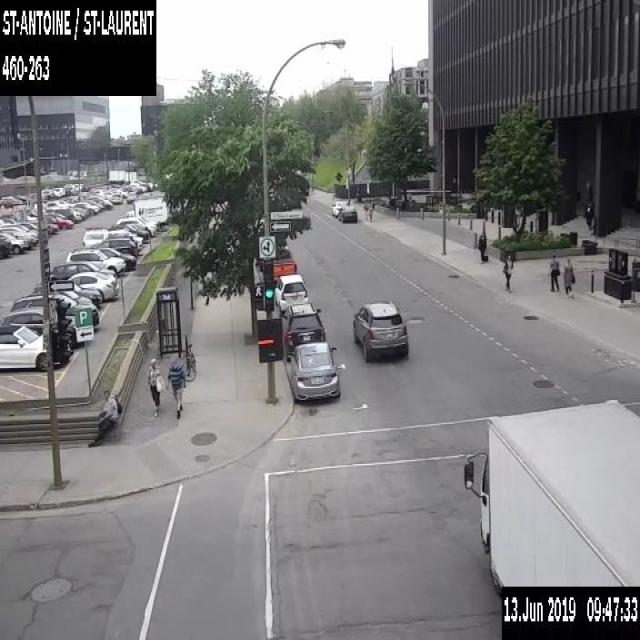pedestrian: (86, 389, 122, 448), (164, 356, 187, 417), (146, 357, 162, 416), (562, 257, 575, 298), (548, 252, 560, 290), (502, 253, 512, 291), (477, 230, 488, 261), (368, 205, 372, 221)
vehicle: (462, 398, 639, 584), (353, 300, 408, 362), (1, 307, 81, 347), (10, 292, 99, 326), (290, 340, 340, 399), (282, 302, 325, 361), (0, 324, 47, 370), (66, 248, 126, 276), (67, 270, 119, 301), (82, 227, 143, 252), (124, 192, 168, 224), (50, 260, 116, 281), (274, 273, 308, 312), (87, 235, 137, 257), (0, 224, 38, 248), (98, 246, 136, 270), (116, 215, 160, 235), (273, 244, 296, 280), (109, 223, 149, 241), (73, 282, 102, 304), (0, 231, 28, 253), (68, 201, 98, 215), (337, 203, 357, 222), (87, 195, 112, 208), (331, 199, 348, 216), (60, 209, 80, 223), (42, 216, 58, 233), (68, 205, 88, 218), (54, 215, 73, 228), (42, 210, 65, 220), (0, 235, 10, 257), (45, 199, 67, 209), (19, 222, 39, 231), (63, 195, 80, 204), (110, 190, 122, 202), (77, 190, 91, 200), (93, 188, 107, 198), (51, 186, 66, 195), (41, 187, 54, 197), (126, 190, 136, 202), (106, 188, 116, 198), (128, 184, 139, 192), (120, 186, 128, 197), (138, 184, 146, 192), (53, 189, 61, 197)
